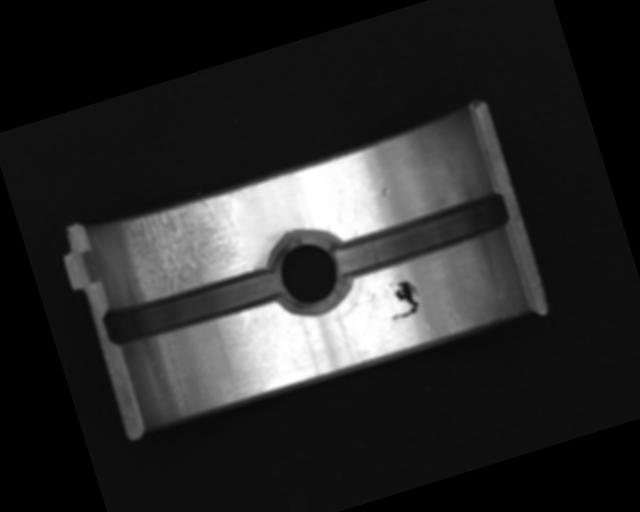blot: (378, 274, 425, 324)
bruise: (379, 186, 391, 197)
gap: (328, 186, 515, 283), (99, 261, 284, 350)
hole: (255, 219, 358, 325)
nick: (237, 308, 257, 331)
scratch: (108, 187, 258, 308)
